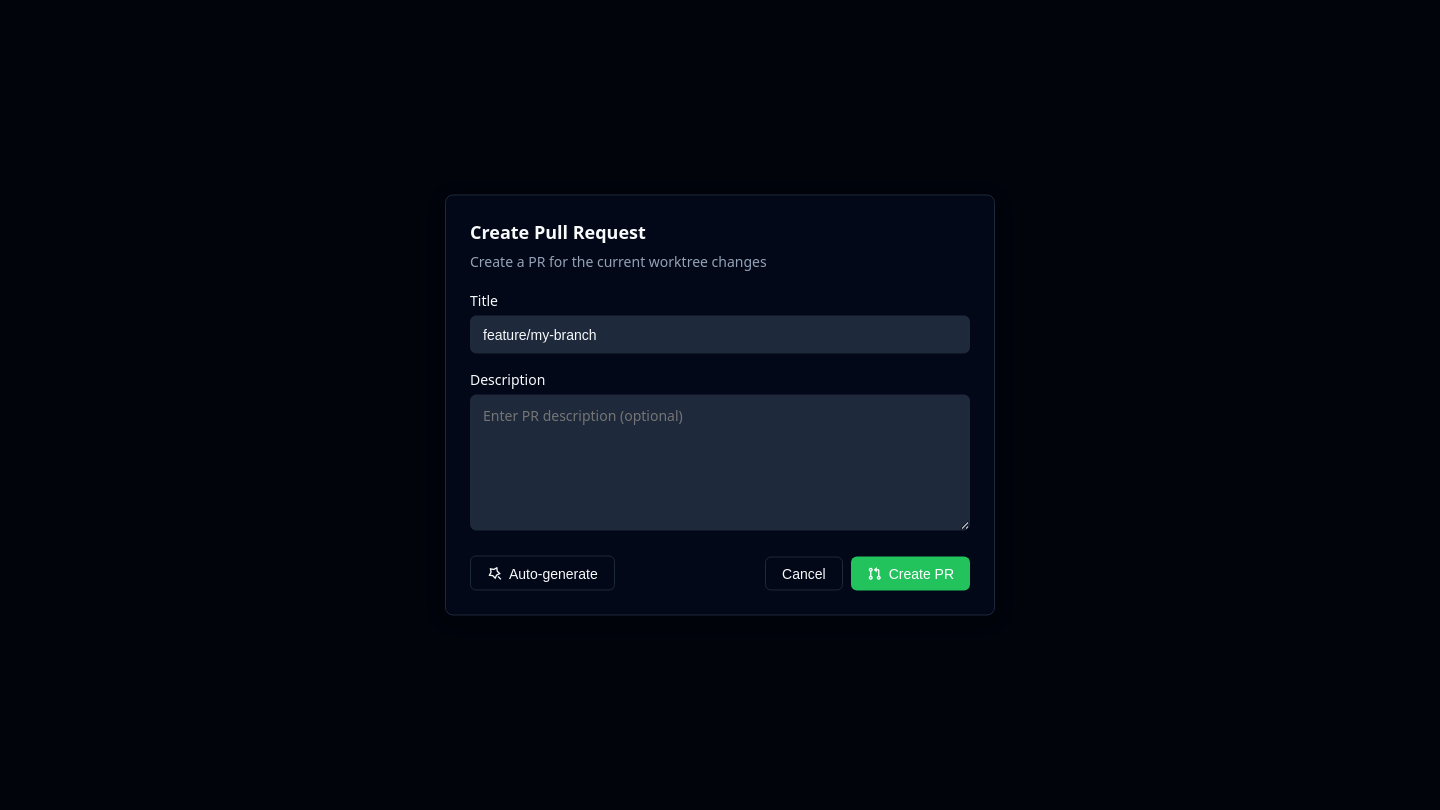
Test: CreatePRDialog › shows loading state on Auto-generate button when auto-generating
Step 1. Click the button "Auto-generate" → [542, 573], box [470, 556, 615, 590]
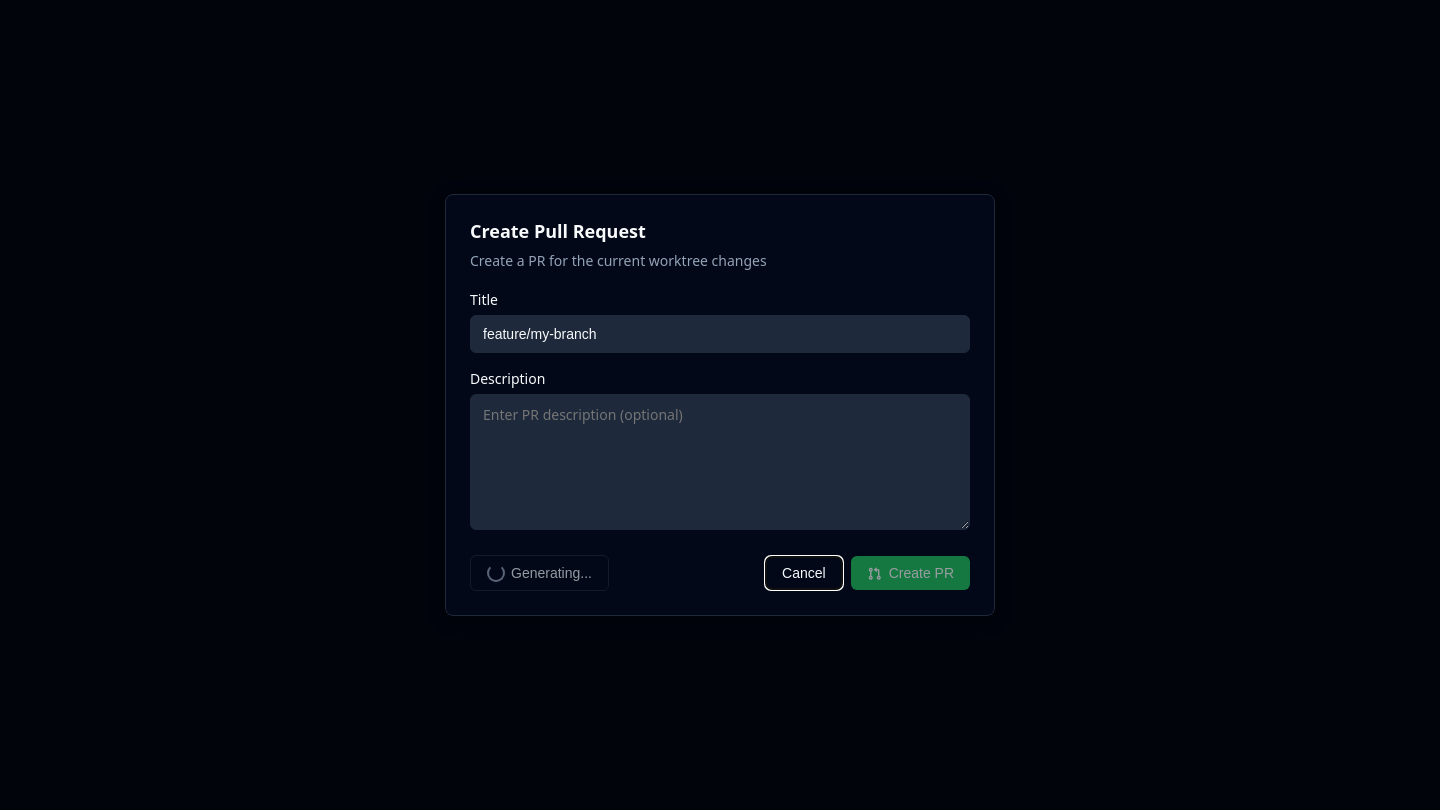
Check: the button "Generating..." is shown, box [470, 555, 609, 591]
